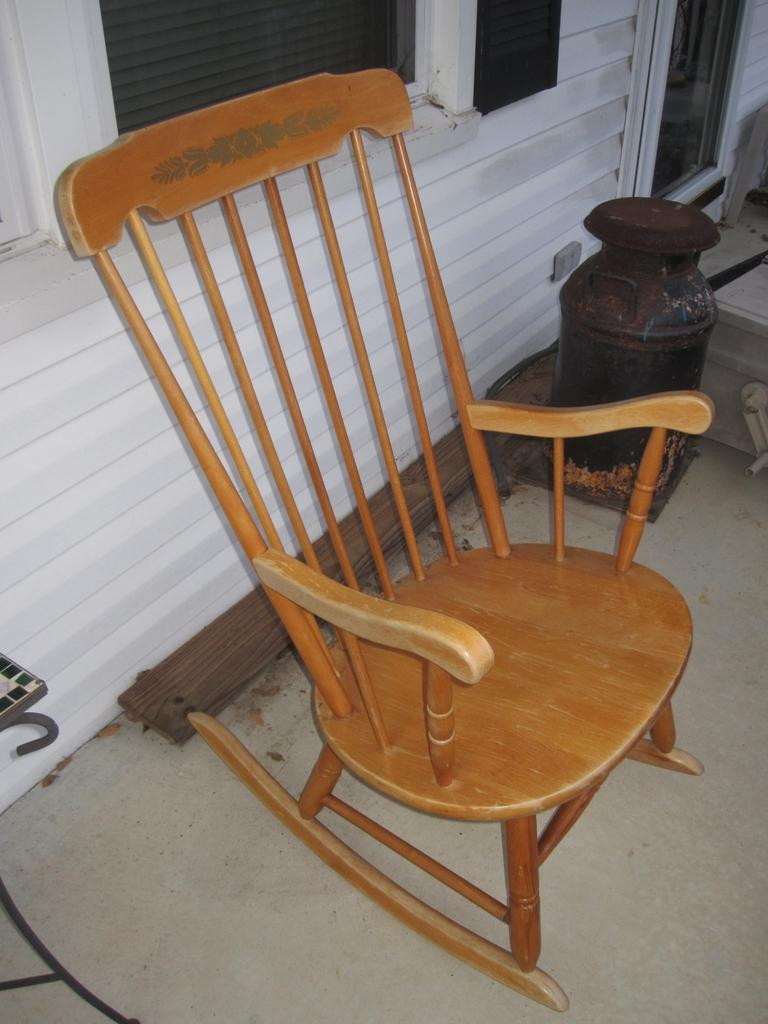Chair: (45, 63, 714, 1017)
